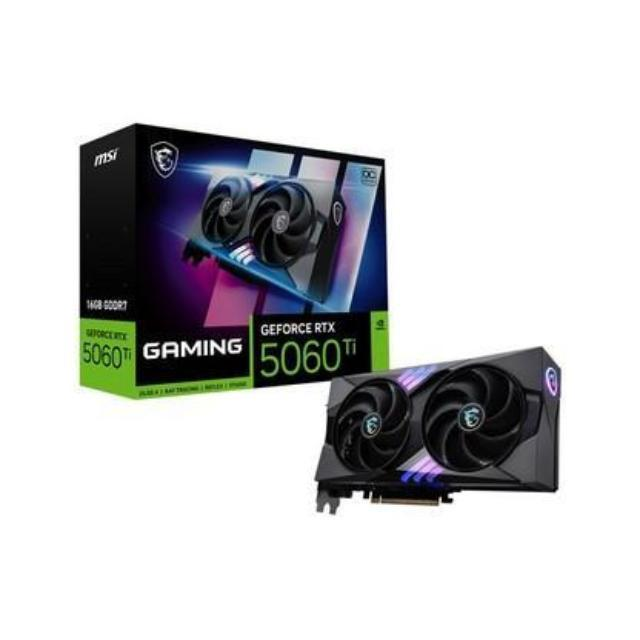GPU: (316, 344, 568, 512)
